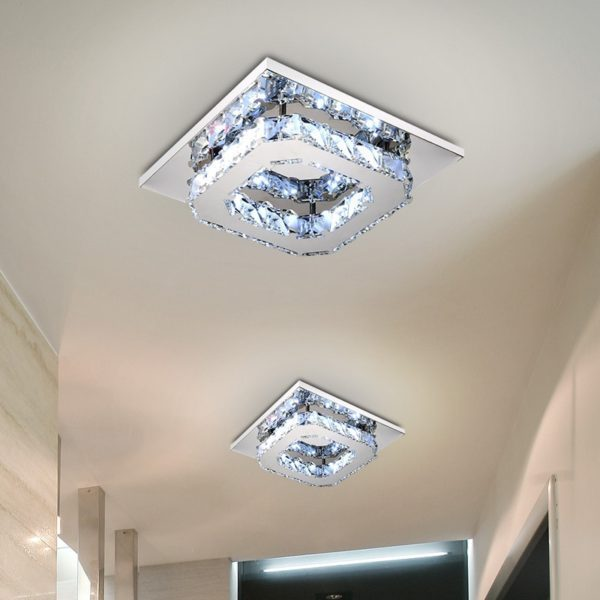chandelier: (129, 47, 473, 269), (225, 376, 413, 492)
